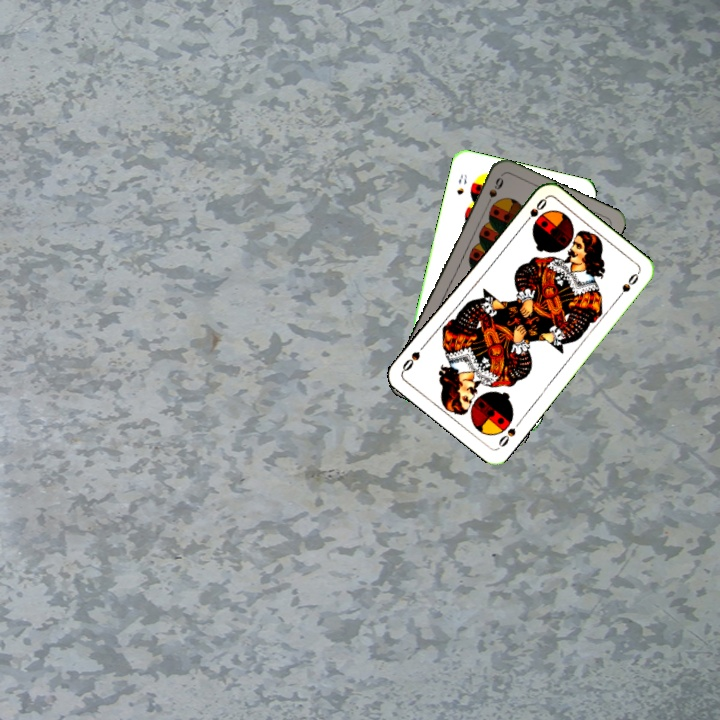S8: (453, 170, 470, 197)
S9: (482, 173, 506, 211)
SO: (518, 194, 549, 229), (494, 424, 518, 450)
